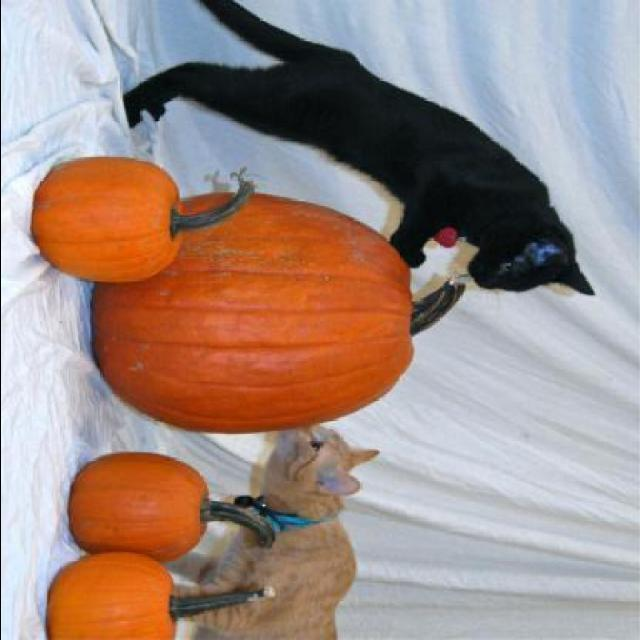Pumpkin: (91, 190, 464, 436), (28, 154, 256, 284), (68, 452, 276, 565), (46, 551, 276, 640)
